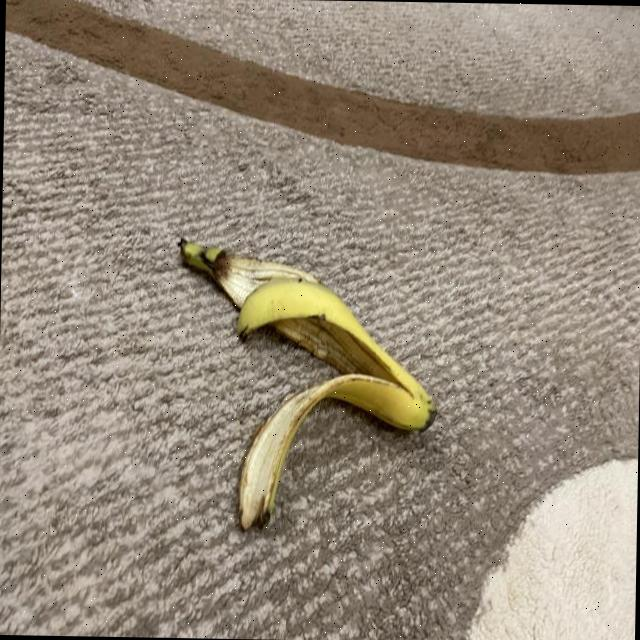banana-peel: (170, 234, 440, 535), (234, 368, 431, 534)
